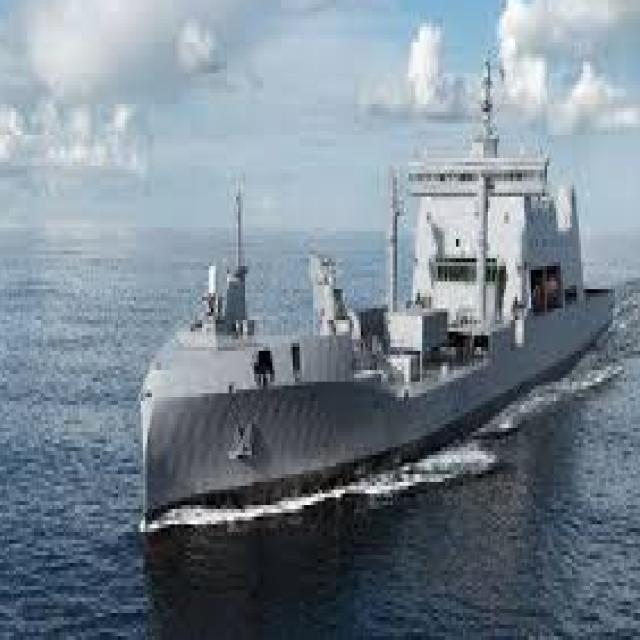navalvessels: (121, 64, 615, 559)
